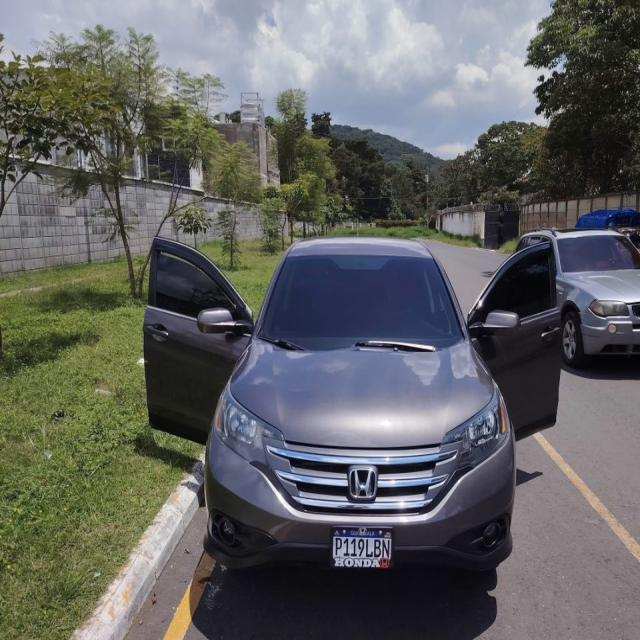Placas: (326, 522, 399, 580)
